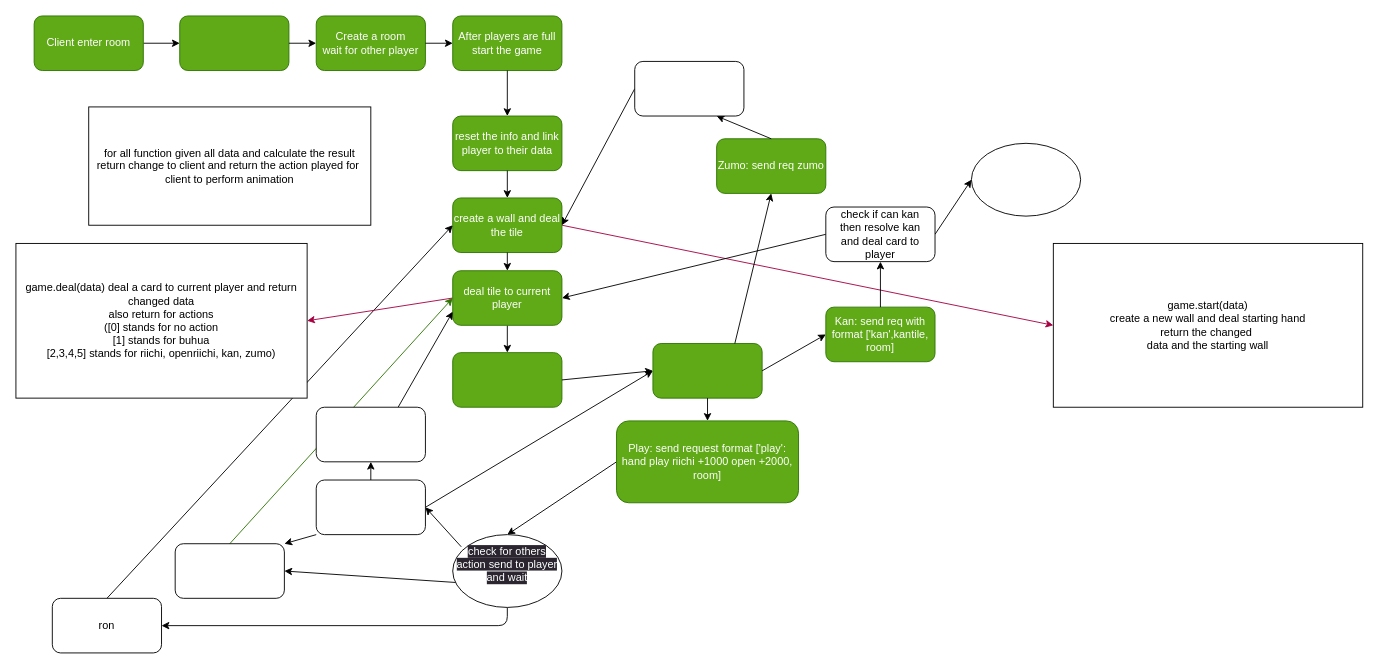
Some shapes in this 1379 by 669 pixel diagram are drawn without their labels. Here are the shapes that lost their labels. From the top down, the centre of each, then its label:
point (234, 43): Give server a request to join room
point (689, 88): check if can zumo then resolve and end game
point (1026, 179): check chan kan if yes ask player
point (507, 379): calculate the actions and send it to player
point (707, 370): player received actions and choose to play
point (370, 434): for kan, change current player and deal hand;
point (370, 507): fulu: check if iegal and wait for action
point (229, 570): no then deal hand
